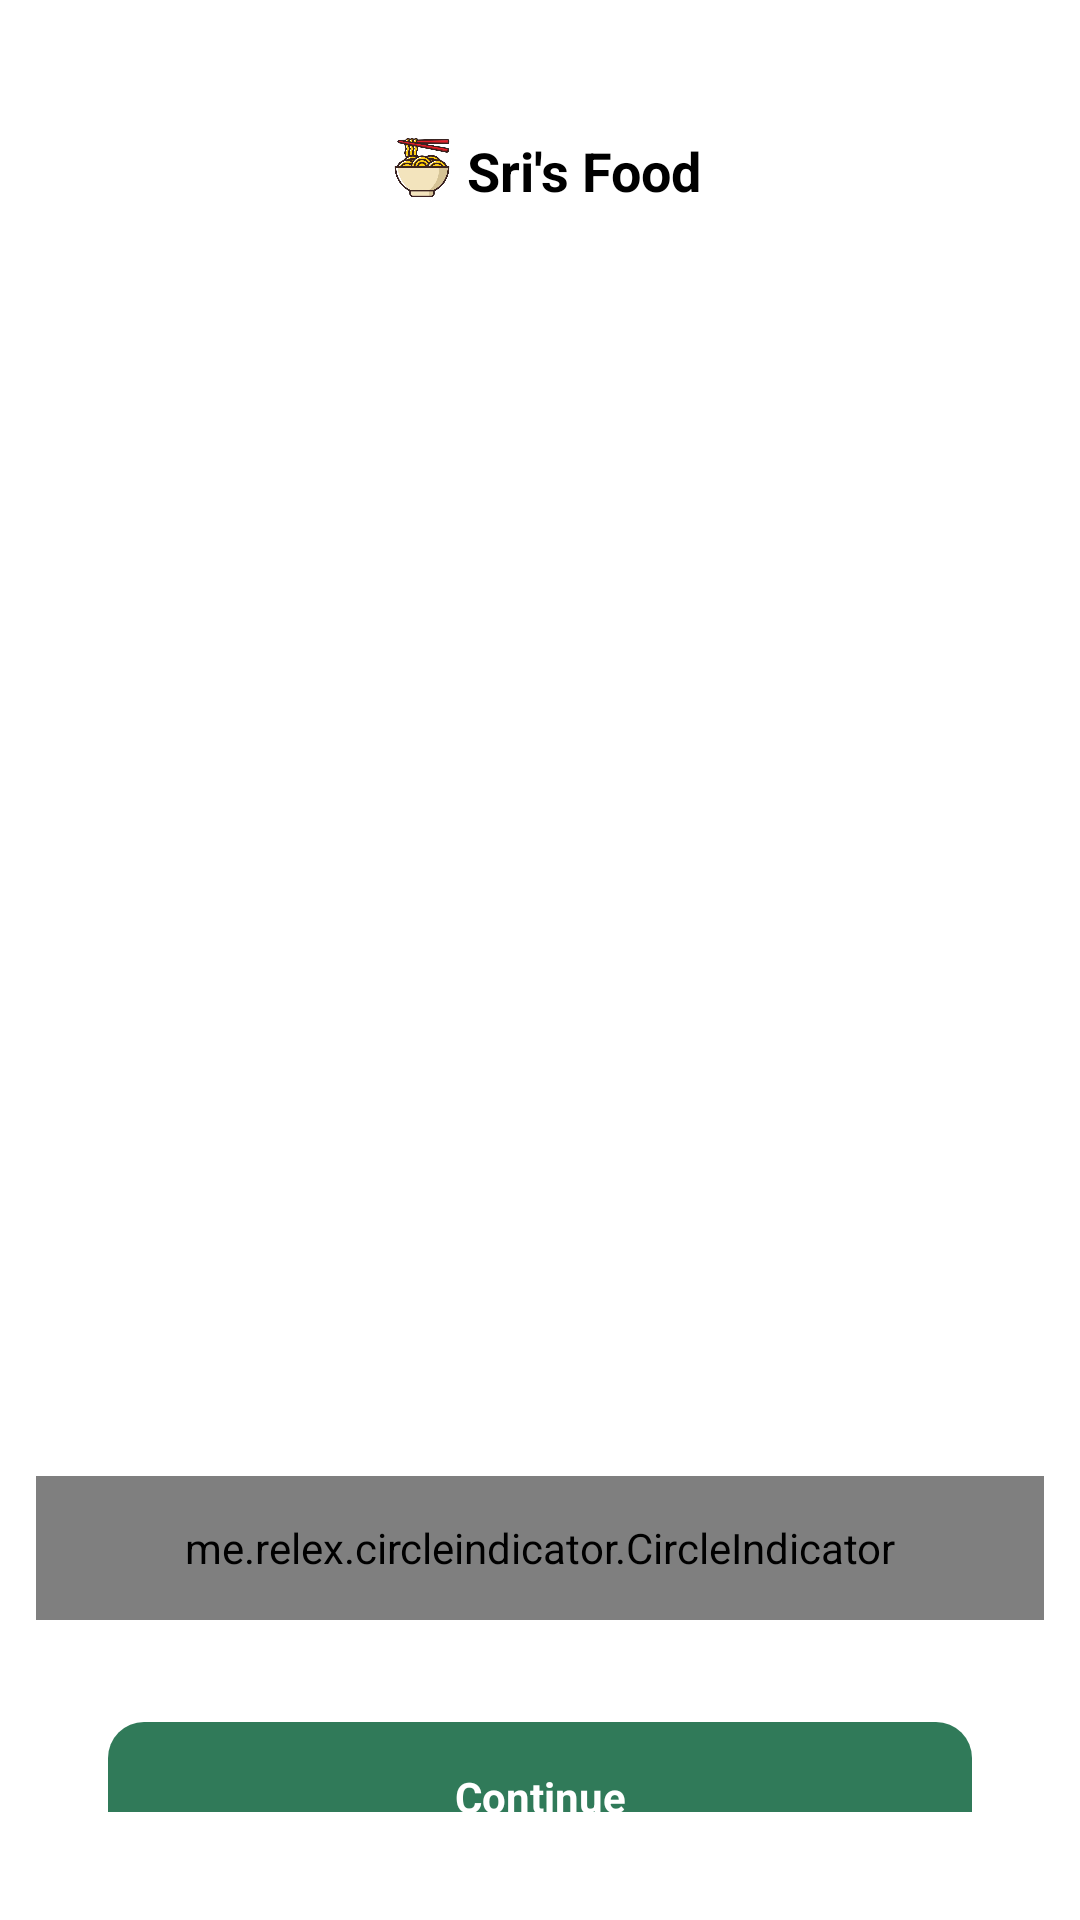

Named icons in this screenshot (1080x1920) and their bounding boxes, (x1, y1, x2, y2):
noodle: (394, 138, 450, 197)
